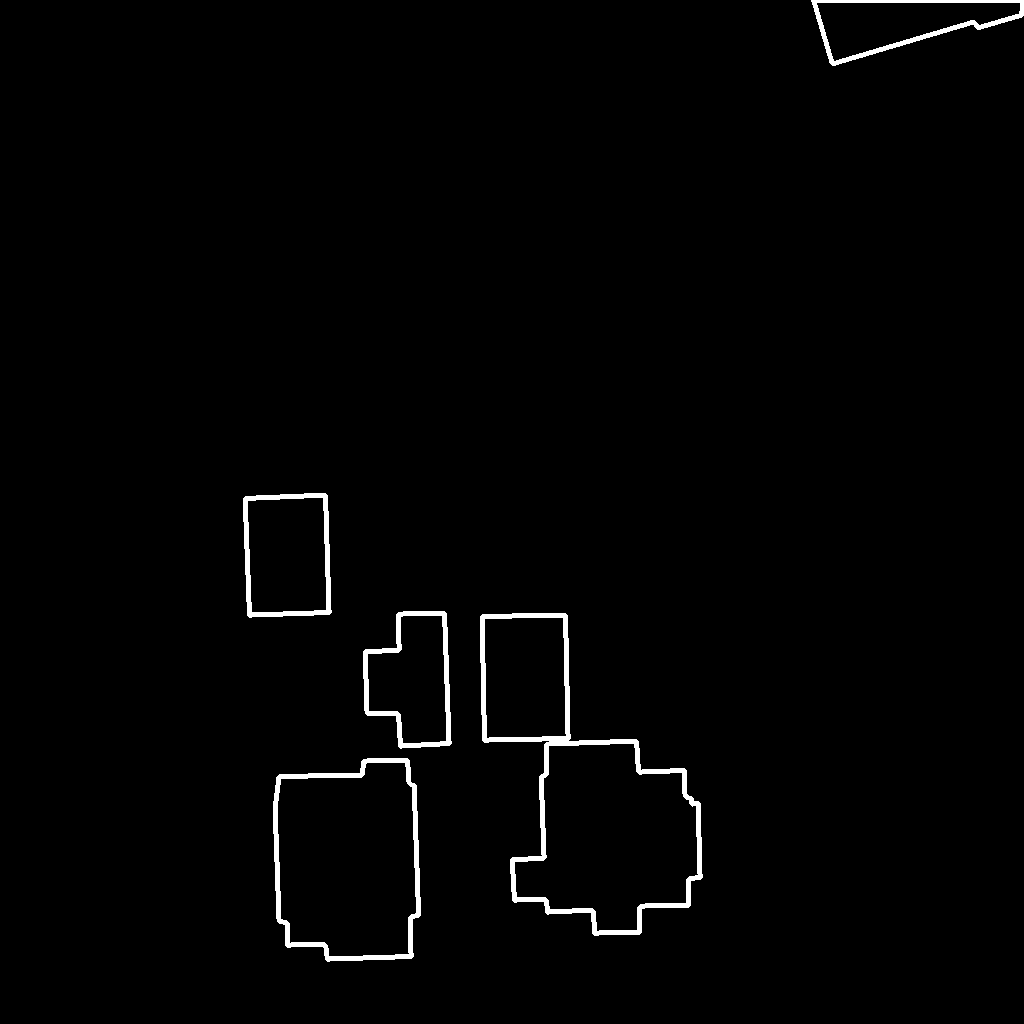building: (512, 741, 701, 934), (275, 760, 419, 960), (813, 0, 1024, 65), (365, 613, 450, 747), (482, 615, 569, 741), (245, 495, 330, 616)
